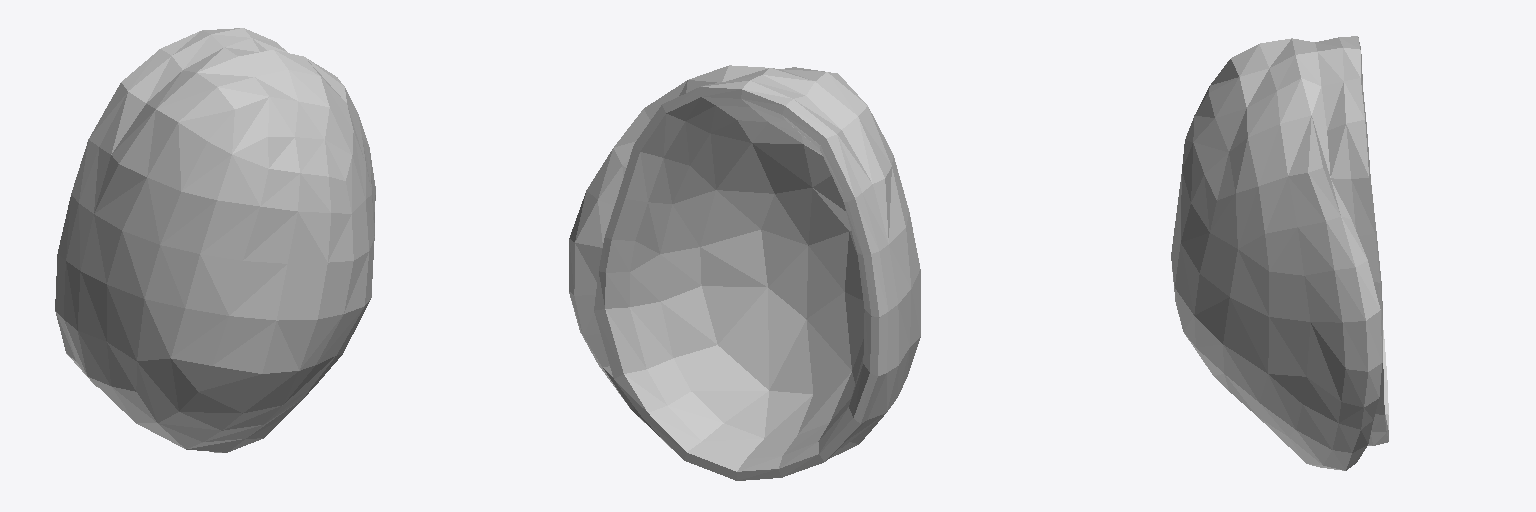
Rendered from beret.obj.
3 views of the same model, side by side, from view 1: azimuth 30°, elevation 25°; view 2: azimuth 150°, elevation 25°; view 3: azimuth 270°, elevation 25° (orthographic).
Visible parts, largest first — view 1: MCap:0; view 2: MCap:0; view 3: MCap:0.
Boxes of the visible parts, <box> form: MCap:0: <box>55,28,375,452</box>; MCap:0: <box>569,65,920,480</box>; MCap:0: <box>1171,36,1388,470</box>.
Size of the model in its own units: 14.09 by 17.46 by 8.55.